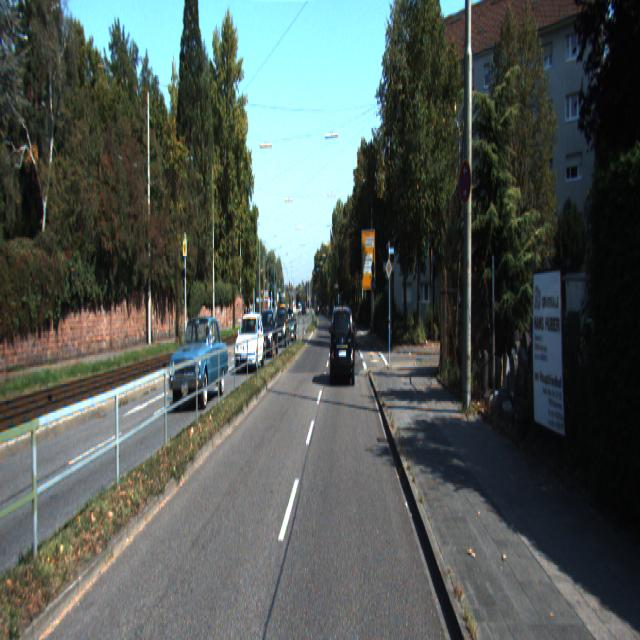Car: (169, 315, 230, 409), (330, 304, 356, 388), (234, 312, 266, 375), (257, 308, 279, 359), (273, 306, 290, 348)
DontCare: (315, 299, 330, 320), (297, 298, 305, 316)
